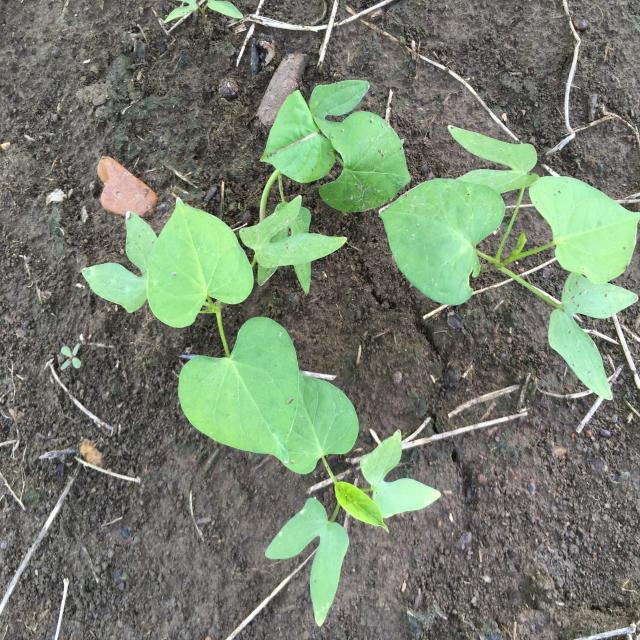Carpetweed: (61, 344, 81, 371)
MorningGlory: (81, 80, 412, 464), (378, 125, 640, 400), (259, 371, 440, 627), (164, 0, 244, 23)
